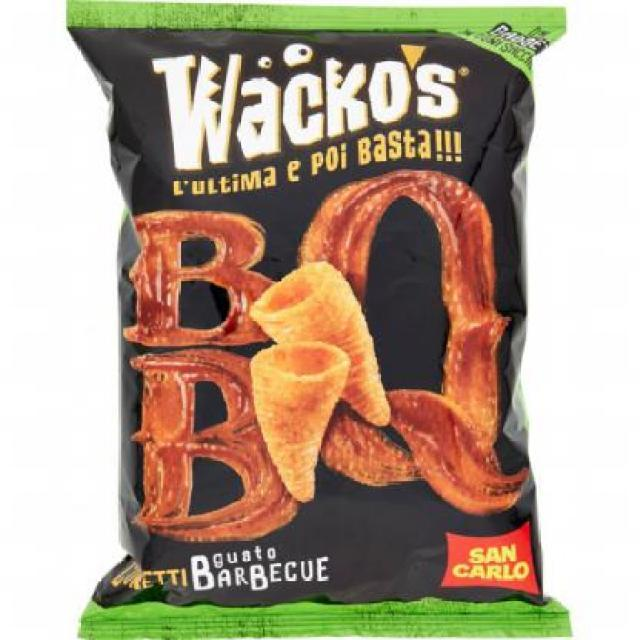Chips: (55, 2, 583, 640)
